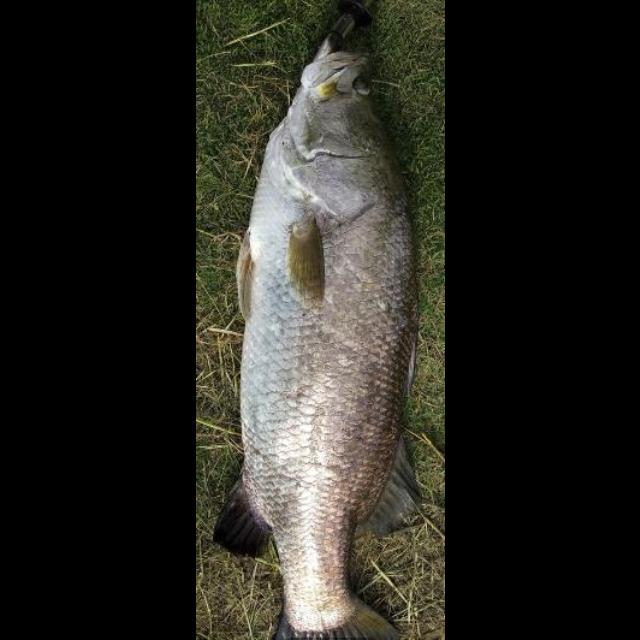Seabass: (214, 32, 418, 640)
